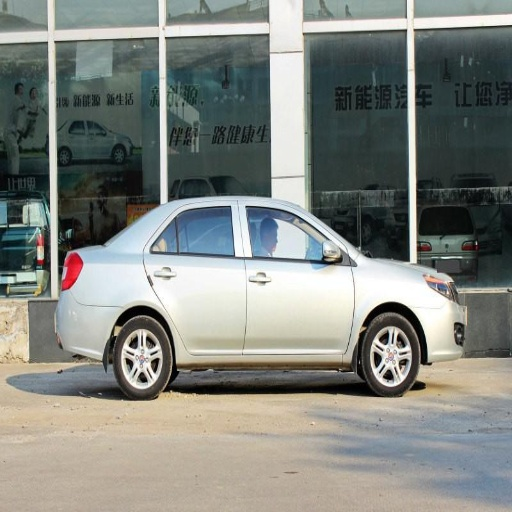back_right_door: (145, 200, 246, 354)
front_right_door: (241, 203, 354, 356)
